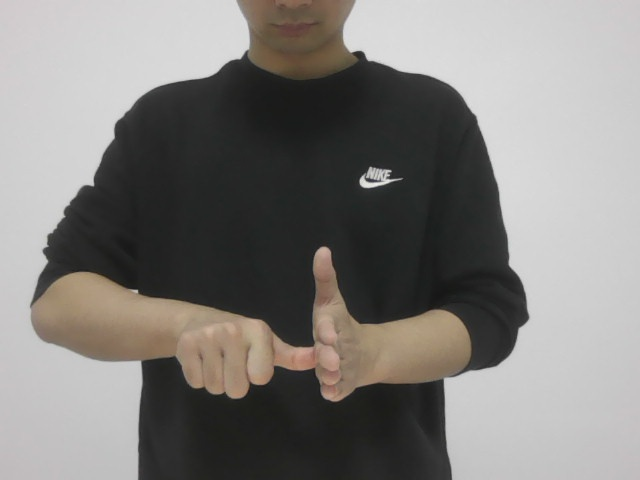time: (163, 246, 368, 414)
